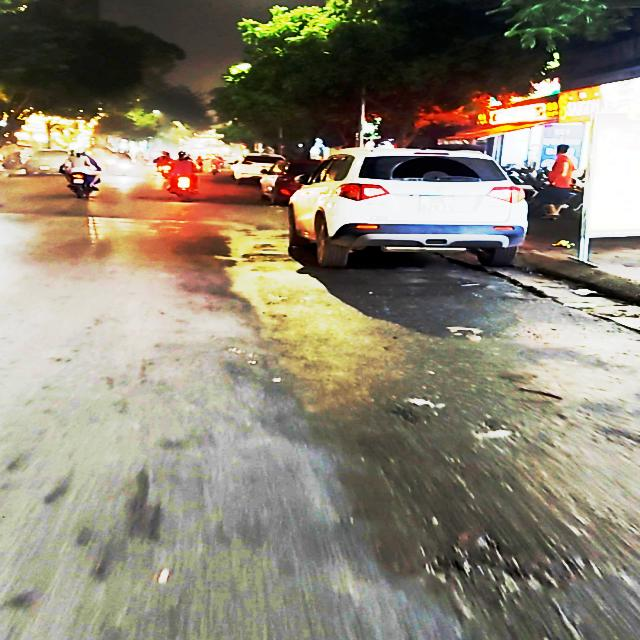license_plate: (417, 195, 460, 215)
